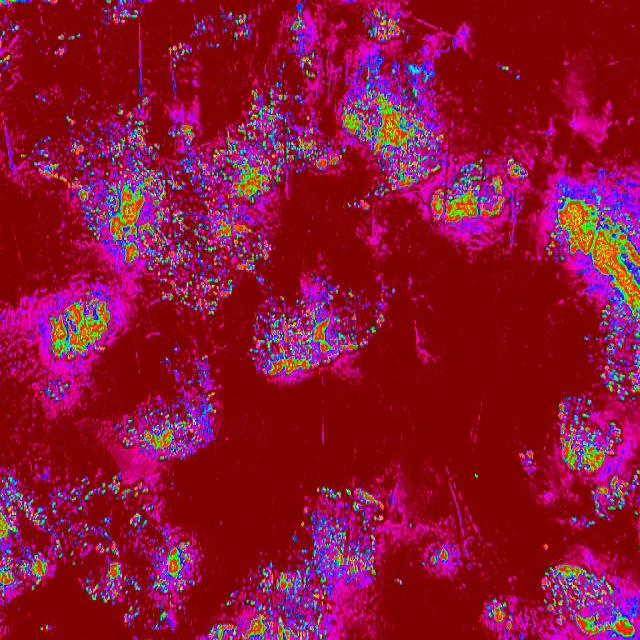fire: (78, 94, 280, 298), (0, 480, 198, 600), (336, 45, 448, 196), (293, 489, 381, 640), (250, 292, 388, 382), (557, 194, 640, 326), (561, 395, 640, 525), (540, 561, 640, 640), (120, 384, 220, 461), (428, 162, 528, 228), (41, 288, 116, 364), (278, 74, 336, 172), (224, 566, 294, 640), (593, 327, 640, 393), (484, 594, 512, 622)
